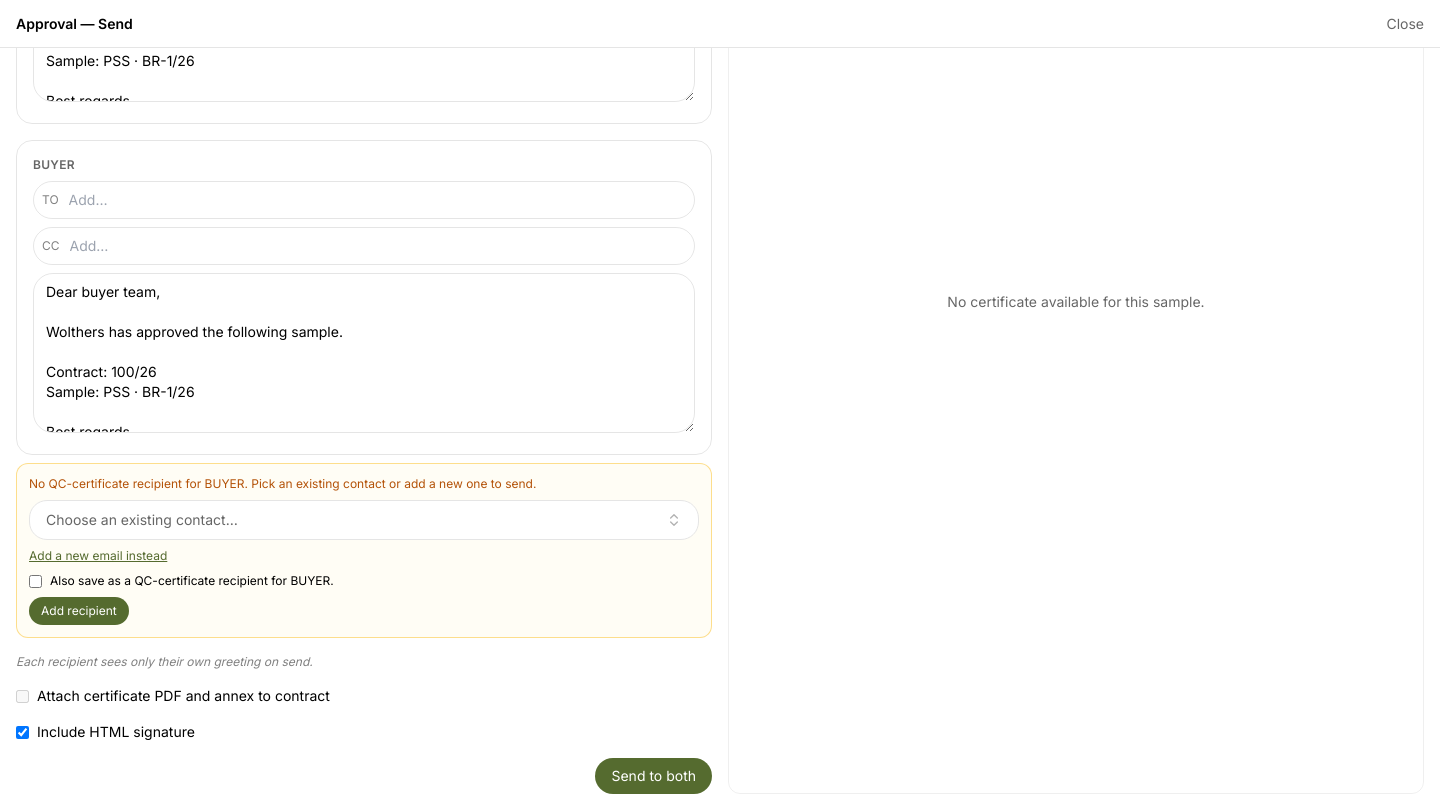
Scenario: ApprovalSendView capture › shows the capture form for the empty buyer side and persists to its company
(page scrolled)
Click the button "Add a new email instead". click: (98, 556)
box: [29,548,167,564]
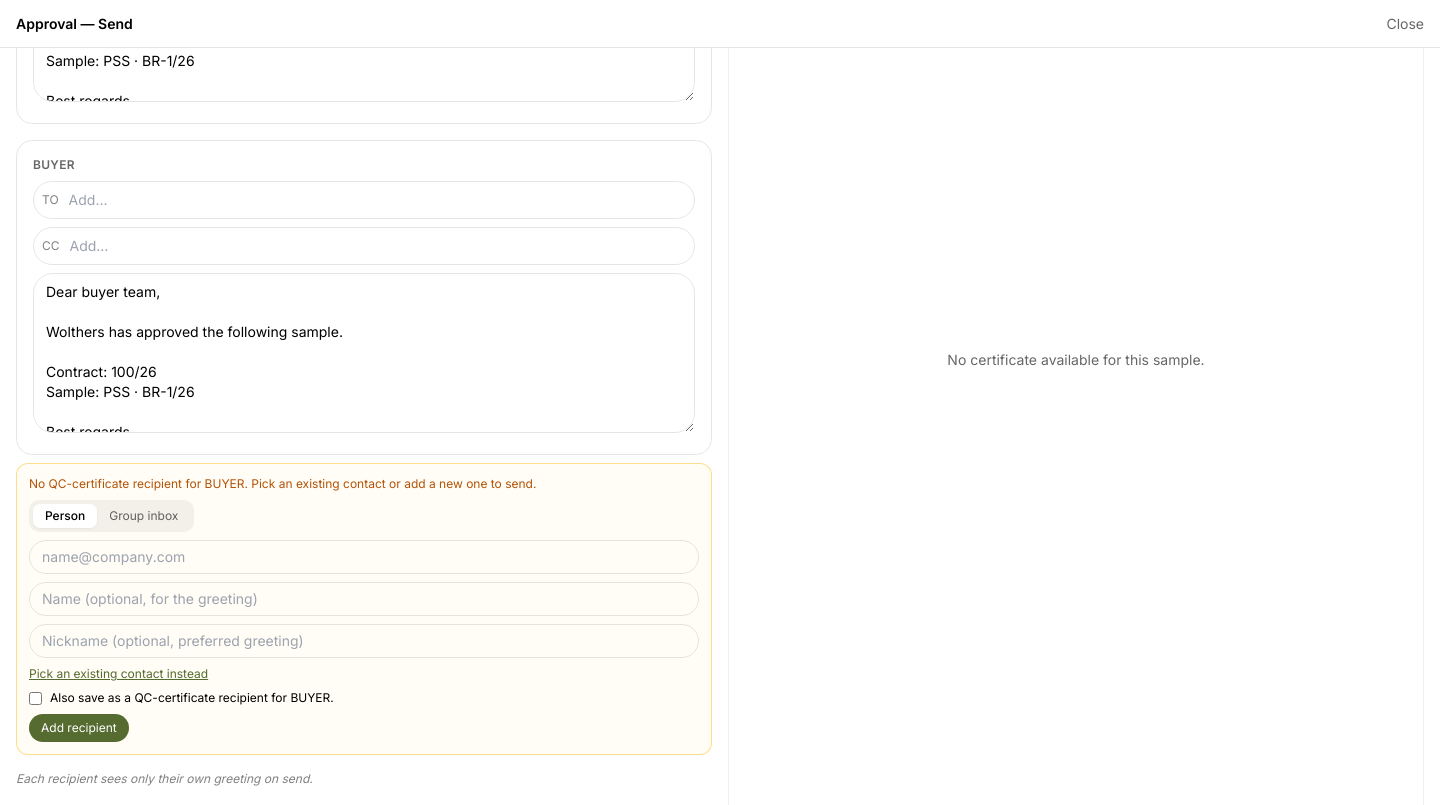
Expected: the checkbox labelled "Also save as a QC-certificate recipient for BUYER." is shown, [29,692,42,704]
Expected: the field with placeholder "name@company.com" is shown, [29,540,699,574]
